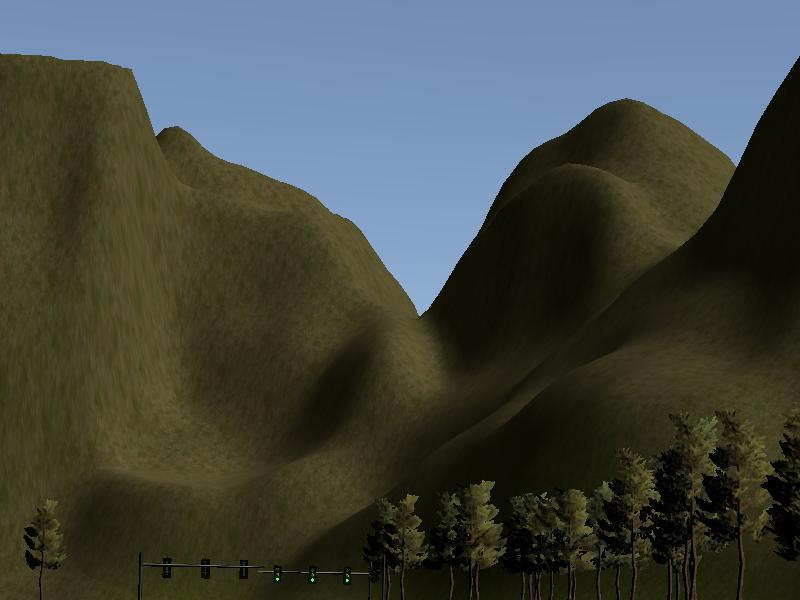Green: (307, 562, 316, 584), (343, 563, 352, 585), (273, 563, 282, 584)
